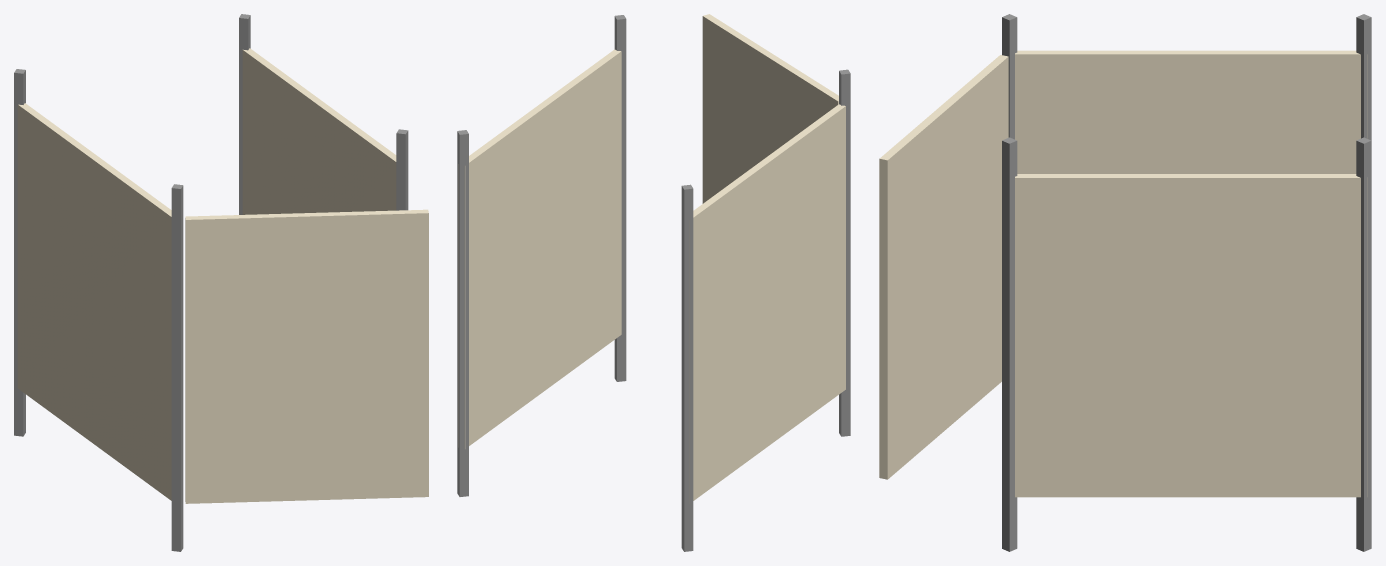
File: Bathroom_Stall_Half.fbx
3 renders of one model, left to right at view 1: azimuth 30°, elevation 25°; view 2: azimuth 150°, elevation 25°; view 3: azimuth 270°, elevation 25°, orthographic. The views are drawn at different scales.
Visible parts, largest first — view 1: Bathroom_Stall_Half; view 2: Bathroom_Stall_Half; view 3: Bathroom_Stall_Half.
Part boxes in pixels (x1,y1,x2,y2): Bathroom_Stall_Half: [14, 14, 428, 551]; Bathroom_Stall_Half: [457, 14, 850, 551]; Bathroom_Stall_Half: [879, 14, 1371, 551].
Bounding box in the file's own units: 121 × 177 × 193.
